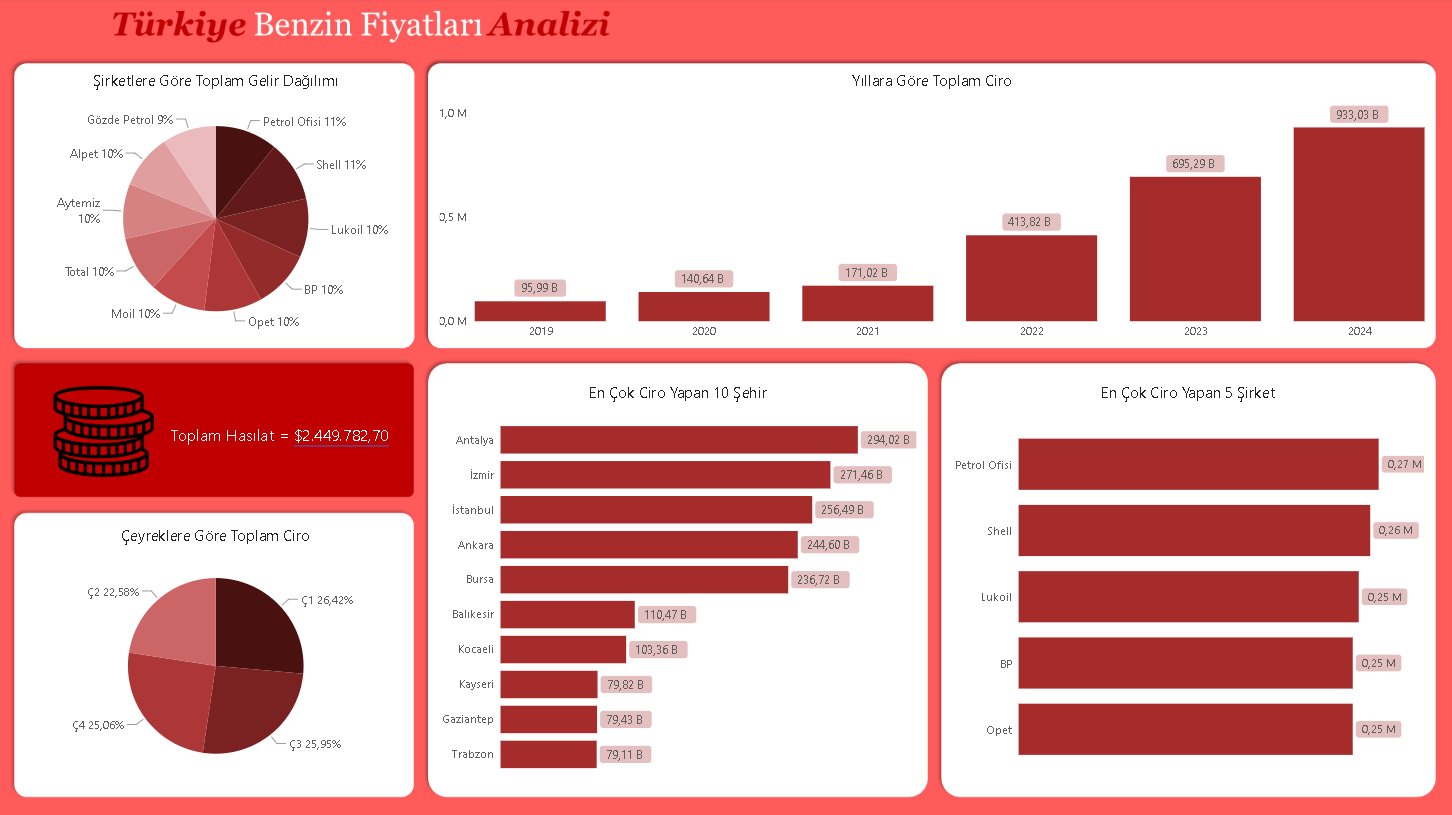

Layout of this report page (visuals, bound fields, positions):
{"tool":"powerbi","page":{"name":"2. sayfa","canvas":[1920,1080],"ordinal":1},"visuals":[{"type":"pieChart","title":"Şirketlere Göre Toplam Gelir Dağılımı","fields":{"Category":["Şirketler.ŞirketAdı","İller.Bölge"],"Y":["Metrikler.Toplam Ciro"]},"box":[35,93.4,507.7,366.2],"z":0},{"type":"clusteredColumnChart","title":"Yıllara Göre Toplam Ciro","fields":{"Category":["Takvim.Yıl"],"Y":["Metrikler.Toplam Ciro"]},"box":[579.2,93.4,1307.2,366.2],"z":1000},{"type":"image","box":[45.2,504.8,194,132.8],"z":2000},{"type":"textbox","box":[224.7,554.4,318.1,46.7],"z":3000},{"type":"pieChart","title":"Çeyreklere Göre Toplam Ciro","fields":{"Y":["Metrikler.Toplam Ciro"],"Category":["Takvim.Çeyrek"]},"box":[35,693,507.7,345.8],"z":4000},{"type":"clusteredBarChart","title":"En Çok Ciro Yapan 10 Şehir","fields":{"Category":["İller.İlAdı"],"Y":["Metrikler.Toplam Ciro"]},"box":[579.2,504.8,637.6,534],"z":5000},{"type":"clusteredBarChart","title":"En Çok Ciro Yapan 5 Şirket","fields":{"Category":["Şirketler.ŞirketAdı"],"Y":["Metrikler.Toplam Ciro"]},"box":[1253.9,504.4,632.2,534.7],"z":6000}]}

Visuals, with their boxes in screenshot pixels (x1, y1, x2, y2), scaled from the page's 1920x1080 canvas onto the 1452x815 screenshot:
"Şirketlere Göre Toplam Gelir Dağılımı" pieChart: select_region(26, 70, 410, 347)
"Yıllara Göre Toplam Ciro" clusteredColumnChart: select_region(438, 70, 1427, 347)
image: select_region(34, 381, 181, 481)
textbox: select_region(170, 418, 410, 454)
"Çeyreklere Göre Toplam Ciro" pieChart: select_region(26, 523, 410, 784)
"En Çok Ciro Yapan 10 Şehir" clusteredBarChart: select_region(438, 381, 920, 784)
"En Çok Ciro Yapan 5 Şirket" clusteredBarChart: select_region(948, 381, 1426, 784)
